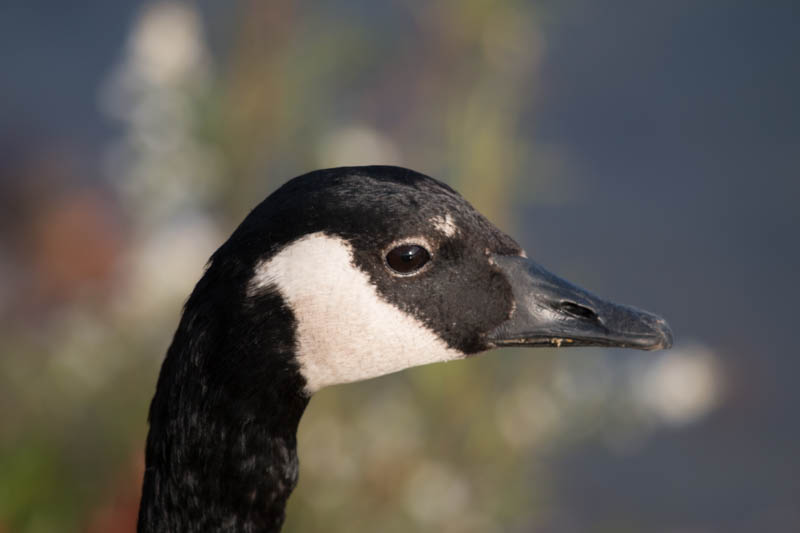goose-head: (184, 165, 675, 396)
